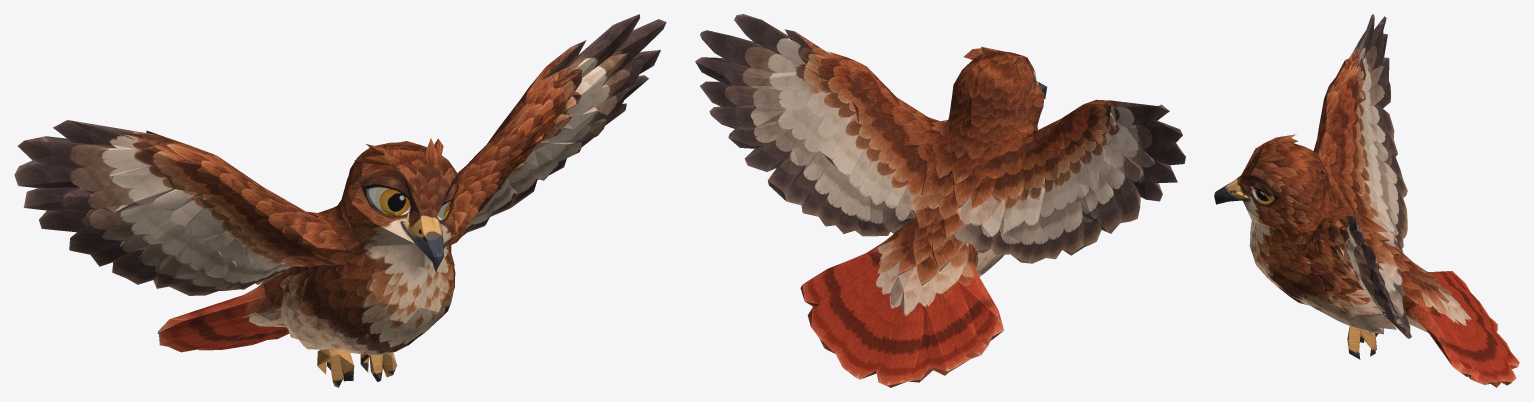
File: hawk-fly.glb
3 views of the same model, side by side, from view 1: azimuth 30°, elevation 25°; view 2: azimuth 150°, elevation 25°; view 3: azimuth 270°, elevation 25° (orthographic). The views are drawn at different scales.
Size of the model in its own units: 1.03 by 0.55 by 0.5838.
1 material, 1 textured.
